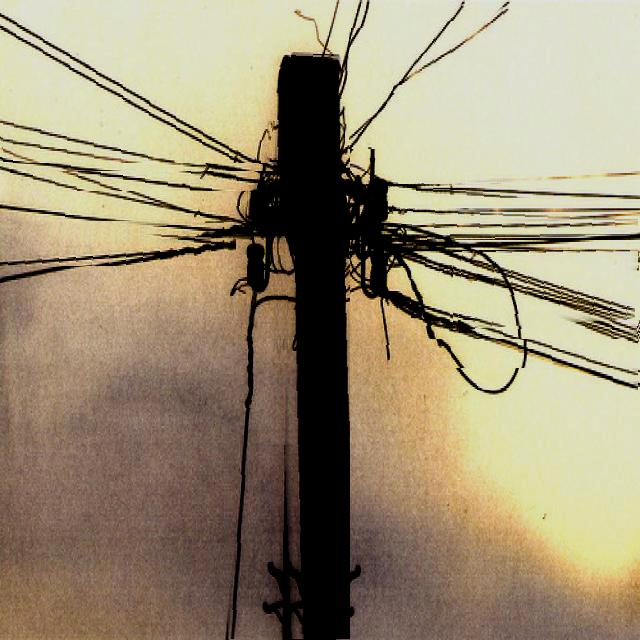pole: (275, 55, 350, 640)
wire: (3, 13, 264, 163), (0, 15, 257, 149), (378, 278, 637, 390), (412, 258, 636, 339), (398, 289, 623, 368), (349, 6, 466, 148), (0, 117, 267, 171), (0, 162, 240, 221), (453, 251, 636, 322), (393, 5, 512, 93), (0, 149, 230, 191), (227, 306, 253, 640), (2, 240, 190, 286), (0, 236, 236, 266), (0, 205, 244, 226), (401, 218, 638, 230), (51, 147, 193, 166), (390, 187, 564, 198), (436, 234, 635, 240), (469, 252, 639, 259), (393, 206, 550, 213), (395, 181, 637, 184), (0, 136, 51, 145), (193, 234, 254, 240)
